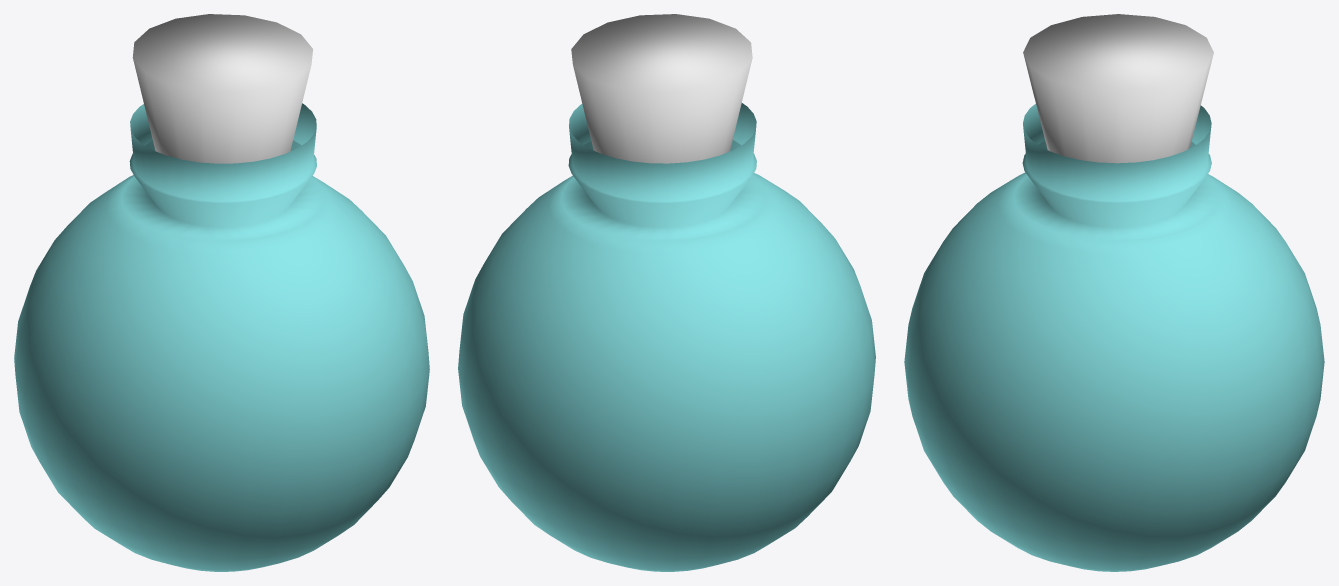
Rendered from potiunesferavar2.fbx.
3 renders of one model, left to right at view 1: azimuth 30°, elevation 25°; view 2: azimuth 150°, elevation 25°; view 3: azimuth 270°, elevation 25°, orthographic.
Parts seen in each view (by area): view 1: Sphere, CylinderSphere; view 2: Sphere, CylinderSphere; view 3: Sphere, CylinderSphere.
Part boxes in pixels (x1,y1,x2,y2): Sphere: (14, 103, 429, 571); CylinderSphere: (132, 14, 312, 163); Sphere: (458, 103, 875, 571); CylinderSphere: (571, 14, 752, 163); Sphere: (904, 103, 1324, 571); CylinderSphere: (1023, 14, 1213, 163).
Size of the model in its own units: 455 by 599 by 455.
